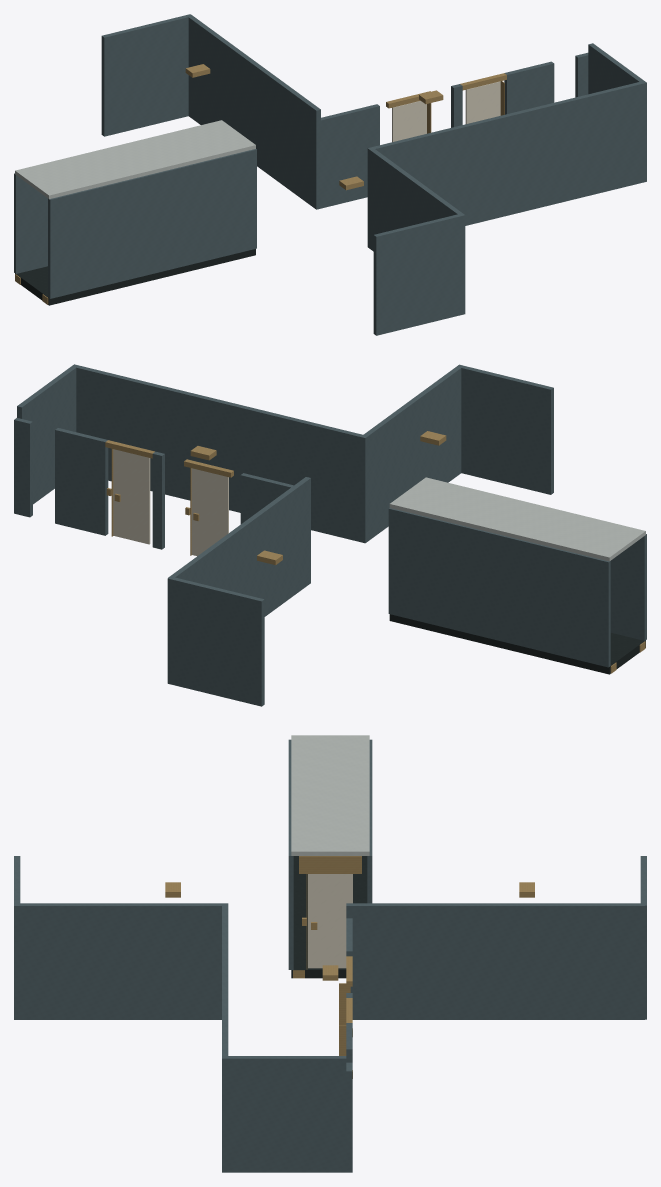
File: D04_PORT_CENTRAL_COMMONS_REAR_ROUTE_r003.glb
3 renders of one model, top to bottom at view 1: azimuth 30°, elevation 25°; view 2: azimuth 150°, elevation 25°; view 3: azimuth 270°, elevation 25°, orthographic. The views are drawn at different scales.
Parts seen in each view (by area): view 1: PCR_FrontGuestBoundary, PCR_BridgeWall1, PCR_RearSouthBoundary, PCR_RearNorthEnd, PCR_RearSouthEnd, PCR_BridgeRoof, PCR_FrontSouthJoin, PCR_RearQuietBoundary, PCR_BridgeWall-1, PCR_BridgeFloor, PCR_StockFrontFillEast, PCR_EastGuestBoundary (+4 smaller); view 2: PCR_BridgeWall-1, PCR_FrontGuestBoundary, PCR_RearSouthEnd, PCR_RearNorthEnd, PCR_RearQuietBoundary, PCR_RearSouthBoundary, PCR_BridgeRoof, PCR_StockFrontFillEast, PCR_EastGuestBoundary, PCR_BridgeWall1, PCR_G2_D04PC_CourtSouth_Leaf, PCR_G1_D04PC_CourtSouth_Leaf (+4 smaller); view 3: PCR_RearSouthBoundary, PCR_RearQuietBoundary, PCR_EastGuestBoundary, PCR_BridgeRoof, PCR_G0_D04PC_CourtSouth_Leaf, PCR_BridgeFloor, PCR_FrontGuestBoundary, PCR_BridgeWall1, PCR_RearPortalHeader, PCR_RearNorthEnd, PCR_FrontSouthJoinEast, PCR_BridgeWall-1.
Part boxes in pixels (x1,y1,x2,y2): PCR_FrontGuestBoundary: (367, 82, 646, 246); PCR_BridgeWall1: (48, 149, 256, 298); PCR_RearSouthBoundary: (188, 15, 320, 209); PCR_RearNorthEnd: (373, 214, 465, 335); PCR_RearSouthEnd: (101, 14, 192, 136); PCR_BridgeRoof: (15, 120, 255, 199); PCR_FrontSouthJoin: (313, 104, 379, 209); PCR_RearQuietBoundary: (367, 147, 463, 251); PCR_BridgeWall-1: (14, 173, 47, 273); PCR_BridgeFloor: (15, 249, 255, 305); PCR_StockFrontFillEast: (504, 61, 554, 114); PCR_EastGuestBoundary: (588, 43, 646, 181); PCR_BridgeWall-1: (388, 508, 610, 667); PCR_FrontGuestBoundary: (71, 364, 368, 542); PCR_RearSouthEnd: (167, 577, 264, 706); PCR_RearNorthEnd: (457, 364, 553, 494); PCR_RearQuietBoundary: (360, 365, 462, 543); PCR_RearSouthBoundary: (168, 477, 310, 616); PCR_BridgeRoof: (389, 477, 645, 561); PCR_StockFrontFillEast: (55, 428, 108, 535); PCR_EastGuestBoundary: (17, 364, 78, 504); PCR_BridgeWall1: (610, 534, 646, 640); PCR_G2_D04PC_CourtSouth_Leaf: (113, 449, 150, 544); PCR_G1_D04PC_CourtSouth_Leaf: (191, 468, 228, 556); PCR_RearSouthBoundary: (346, 903, 644, 1019); PCR_RearQuietBoundary: (16, 903, 228, 1019); PCR_EastGuestBoundary: (222, 1056, 346, 1172); PCR_BridgeRoof: (291, 735, 369, 855); PCR_G0_D04PC_CourtSouth_Leaf: (308, 874, 352, 968); PCR_BridgeFloor: (291, 856, 367, 978); PCR_FrontGuestBoundary: (222, 904, 228, 1172); PCR_BridgeWall1: (288, 739, 293, 969); PCR_RearPortalHeader: (299, 856, 361, 873); PCR_RearNorthEnd: (14, 856, 20, 1019); PCR_FrontSouthJoinEast: (346, 1062, 352, 1172); PCR_BridgeWall-1: (367, 739, 372, 903).
Bounding box in the file's own units: 19.24 × 3.56 × 16.1.
7 materials, 7 textured.
